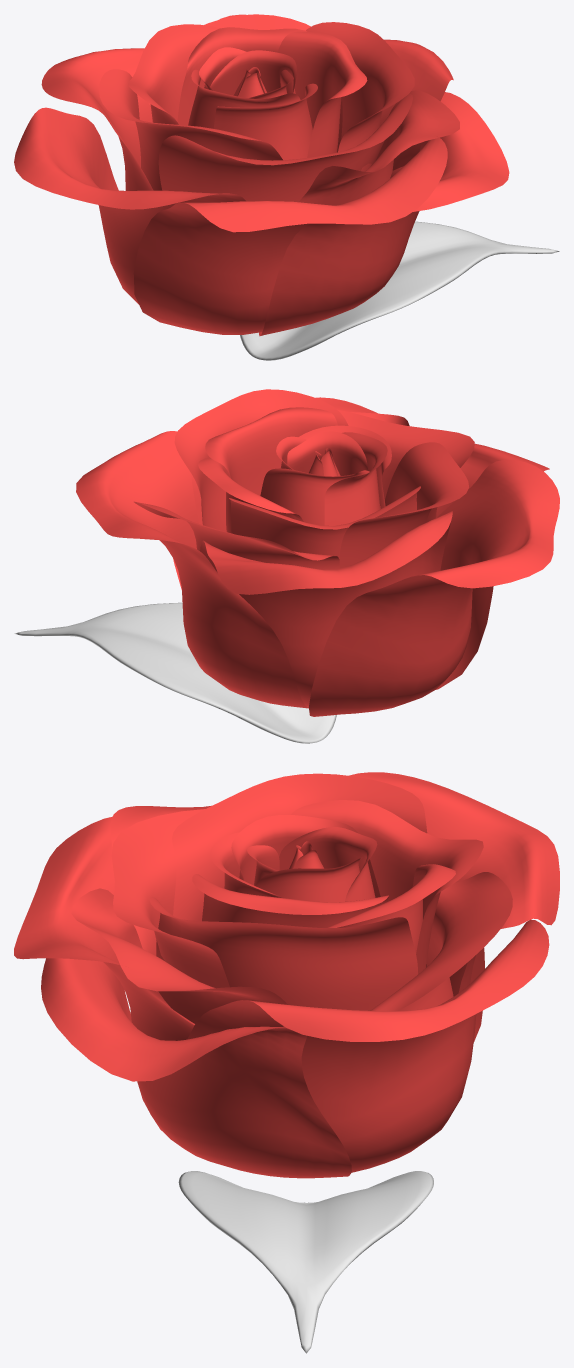
The model's file is rose 머리.fbx.
The picture shows the model from 3 angles, top to bottom: view 1: azimuth 30°, elevation 25°; view 2: azimuth 150°, elevation 25°; view 3: azimuth 270°, elevation 25°; orthographic projection. The views are drawn at different scales.
Parts seen in each view (by area): view 1: rose3_5.008, rose3_5.006, rose3_5.007, leaf, rose3_5, rose3_5.001, rose3_2, rose3_5.004, rose3_5.003, rose3_4, rose3_3, rose3_1 (+6 smaller); view 2: rose3_5.007, rose3_5.005, rose3_5.003, leaf, rose3_4, rose3_5.001, rose3_2, rose3_3, rose3_5.008, ROSE2_4, rose3_5.002, rose3_5 (+6 smaller); view 3: rose3_5.006, rose3_5.005, leaf, rose3_5.001, rose3_5.008, rose3_5.003, rose3_4, rose3_5, rose3_3, rose3_5.002, rose3_5.004, rose3_2 (+7 smaller).
Boxes of the visible parts, x1=… form: rose3_5.008: x1=133, y1=136, x2=447, y2=334; rose3_5.006: x1=259, y1=92, x2=509, y2=336; rose3_5.007: x1=14, y1=107, x2=245, y2=304; leaf: x1=240, y1=221, x2=559, y2=360; rose3_5: x1=158, y1=94, x2=412, y2=202; rose3_5.001: x1=306, y1=22, x2=414, y2=171; rose3_2: x1=277, y1=31, x2=367, y2=157; rose3_5.004: x1=299, y1=90, x2=459, y2=205; rose3_5.003: x1=41, y1=48, x2=153, y2=190; rose3_4: x1=99, y1=69, x2=282, y2=190; rose3_3: x1=128, y1=24, x2=219, y2=124; rose3_1: x1=213, y1=83, x2=317, y2=160; rose3_5.007: x1=308, y1=459, x2=559, y2=716; rose3_5.005: x1=76, y1=431, x2=308, y2=708; rose3_5.003: x1=200, y1=511, x2=452, y2=706; leaf: x1=14, y1=602, x2=336, y2=743; rose3_4: x1=339, y1=442, x2=468, y2=567; rose3_5.001: x1=174, y1=389, x2=348, y2=531; rose3_2: x1=205, y1=407, x2=337, y2=495; rose3_3: x1=229, y1=486, x2=420, y2=558; rose3_5.008: x1=315, y1=397, x2=549, y2=689; ROSE2_4: x1=324, y1=432, x2=387, y2=525; rose3_5.002: x1=134, y1=501, x2=340, y2=569; rose3_5: x1=337, y1=409, x2=474, y2=522; rose3_5.006: x1=41, y1=958, x2=351, y2=1178; rose3_5.005: x1=187, y1=919, x2=549, y2=1172; leaf: x1=178, y1=1171, x2=433, y2=1353; rose3_5.001: x1=149, y1=897, x2=417, y2=1010; rose3_5.008: x1=14, y1=816, x2=194, y2=1040; rose3_5.003: x1=349, y1=772, x2=559, y2=996; rose3_4: x1=172, y1=773, x2=427, y2=920; rose3_5: x1=111, y1=809, x2=229, y2=988; rose3_3: x1=291, y1=800, x2=483, y2=974; rose3_5.002: x1=370, y1=872, x2=512, y2=1011; rose3_5.004: x1=71, y1=888, x2=287, y2=1023; rose3_2: x1=192, y1=874, x2=388, y2=927.
Bounding box in the file's own units: 590 × 308 × 421.
